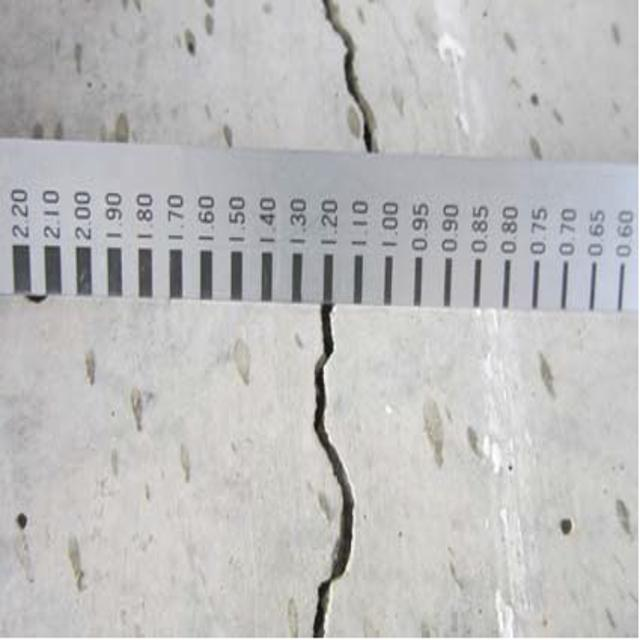crack: (296, 303, 356, 640), (316, 4, 381, 156)
